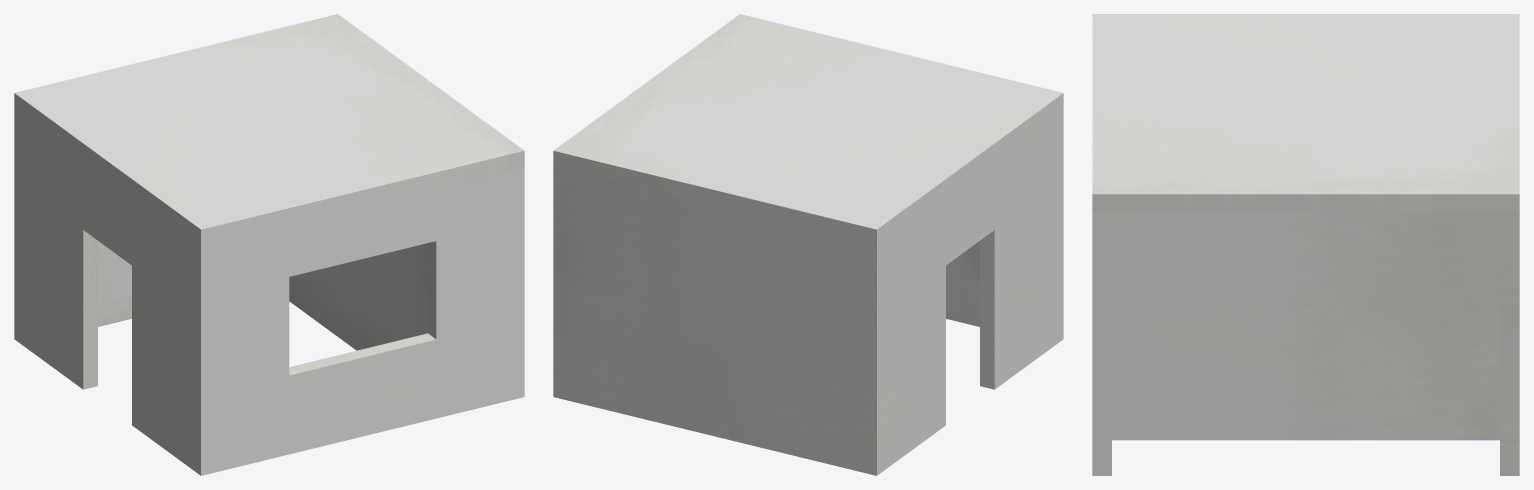
File: novi_dzidovi.fbx
3 renders of one model, left to right at view 1: azimuth 30°, elevation 25°; view 2: azimuth 150°, elevation 25°; view 3: azimuth 270°, elevation 25°, orthographic. The views are drawn at different scales.
Visible parts, largest first — view 1: tavan, sidewall2, sidewall1, sidewall3, sidewall4; view 2: sidewall4, tavan, sidewall1, sidewall2; view 3: sidewall3, tavan, sidewall4, sidewall2.
Part boxes in pixels (<box>): tavan: <box>14,14,524,244</box>; sidewall2: <box>192,166,524,475</box>; sidewall1: <box>22,129,192,469</box>; sidewall3: <box>289,243,427,350</box>; sidewall4: <box>14,108,131,344</box>; sidewall4: <box>553,166,904,475</box>; tavan: <box>553,14,1063,244</box>; sidewall1: <box>885,115,1055,469</box>; sidewall2: <box>946,108,1063,344</box>; sidewall3: <box>1112,212,1499,440</box>; tavan: <box>1092,14,1519,211</box>; sidewall4: <box>1457,212,1519,475</box>; sidewall2: <box>1092,212,1111,475</box>.
Size of the model in its own units: 4.4 by 4.4 by 3.2.
2 materials, 2 textured.
